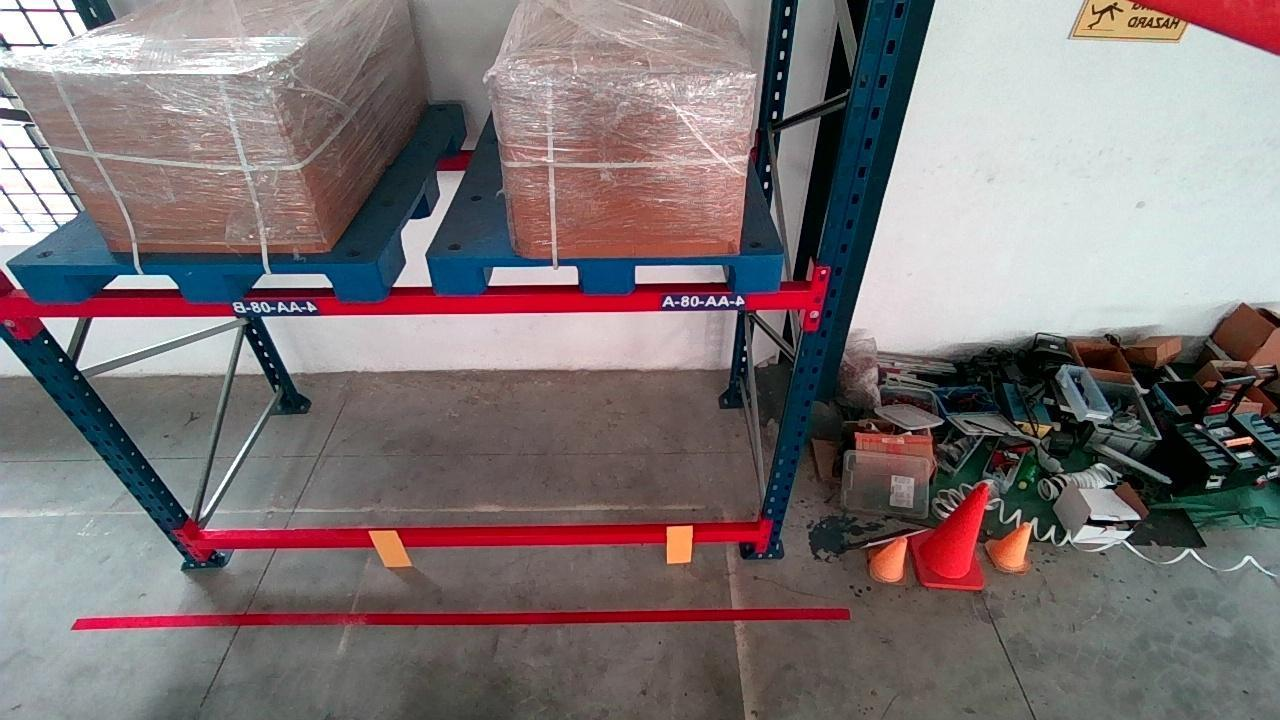h_rack: (8, 281, 810, 326), (199, 525, 756, 552)
orange_strip: (371, 529, 410, 566), (665, 523, 695, 562)
red_line: (63, 601, 857, 636)
small_pallet: (22, 261, 388, 302), (437, 254, 783, 294)
